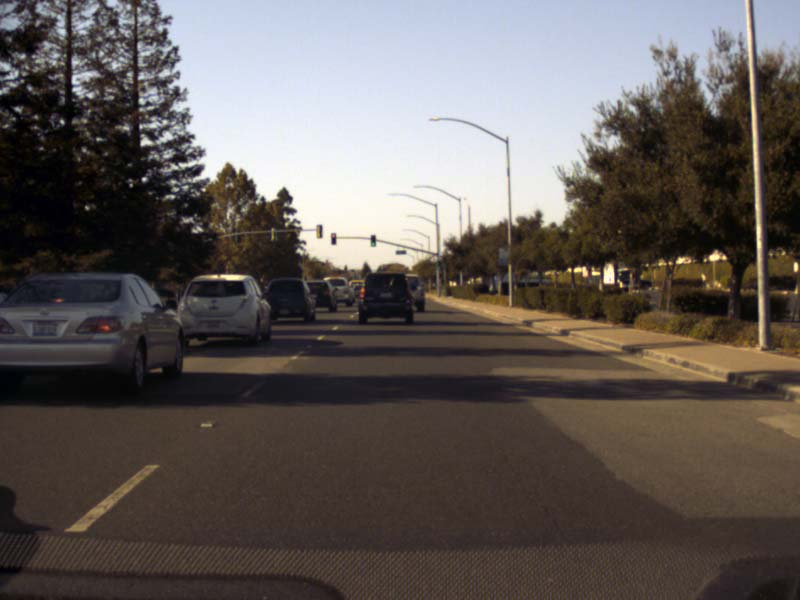Green: (370, 234, 375, 246)
Red: (330, 233, 335, 244)
